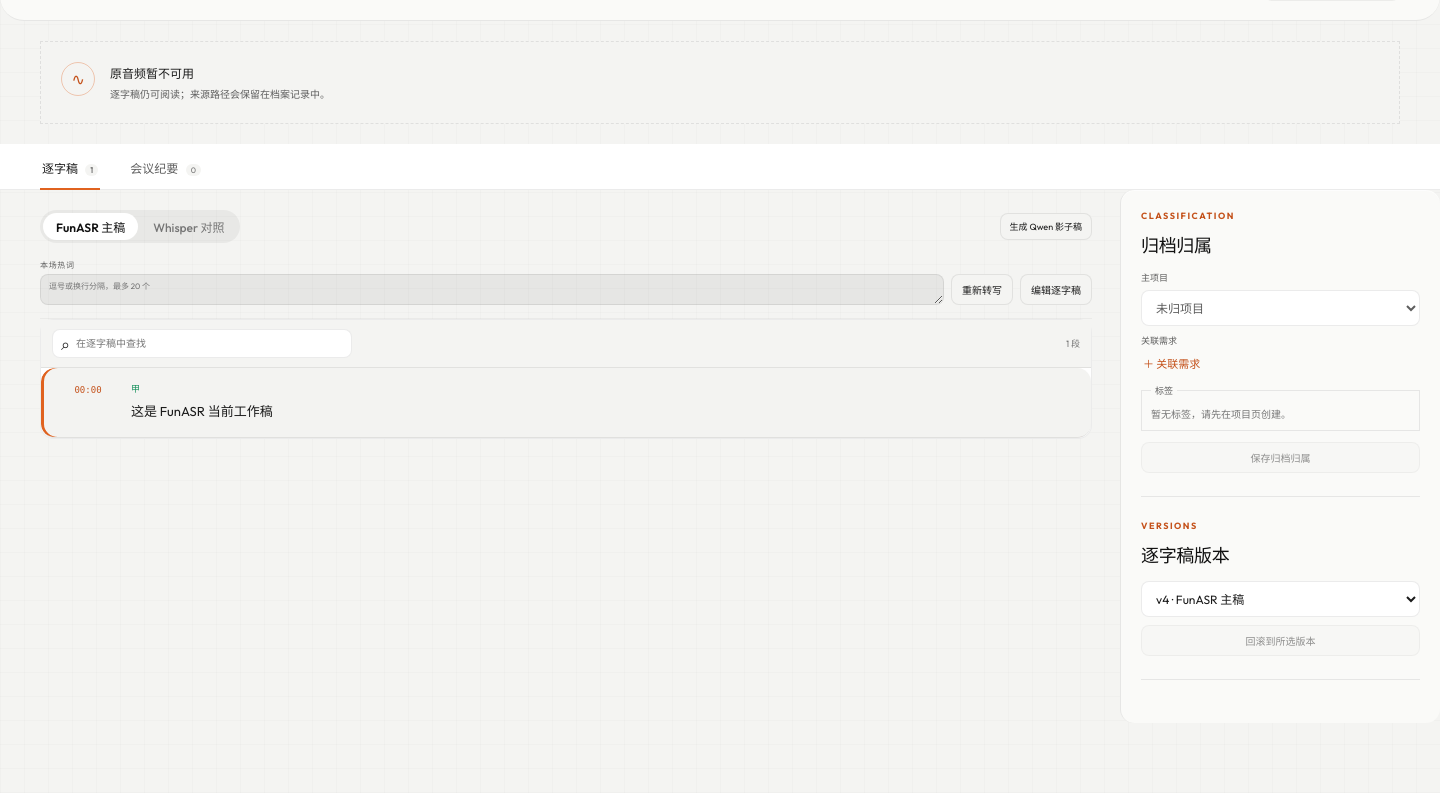
it: MeetingDetailPage Whisper comparison › keeps a failed gold ledger closed and retries it explicitly
The image size is (1440, 793).
(page scrolled)
What coordinates should you click on to do the following:
click the button "Whisper 对照"
I would click on:
 (189, 226)
Its box is 140,213 -> 237,240.
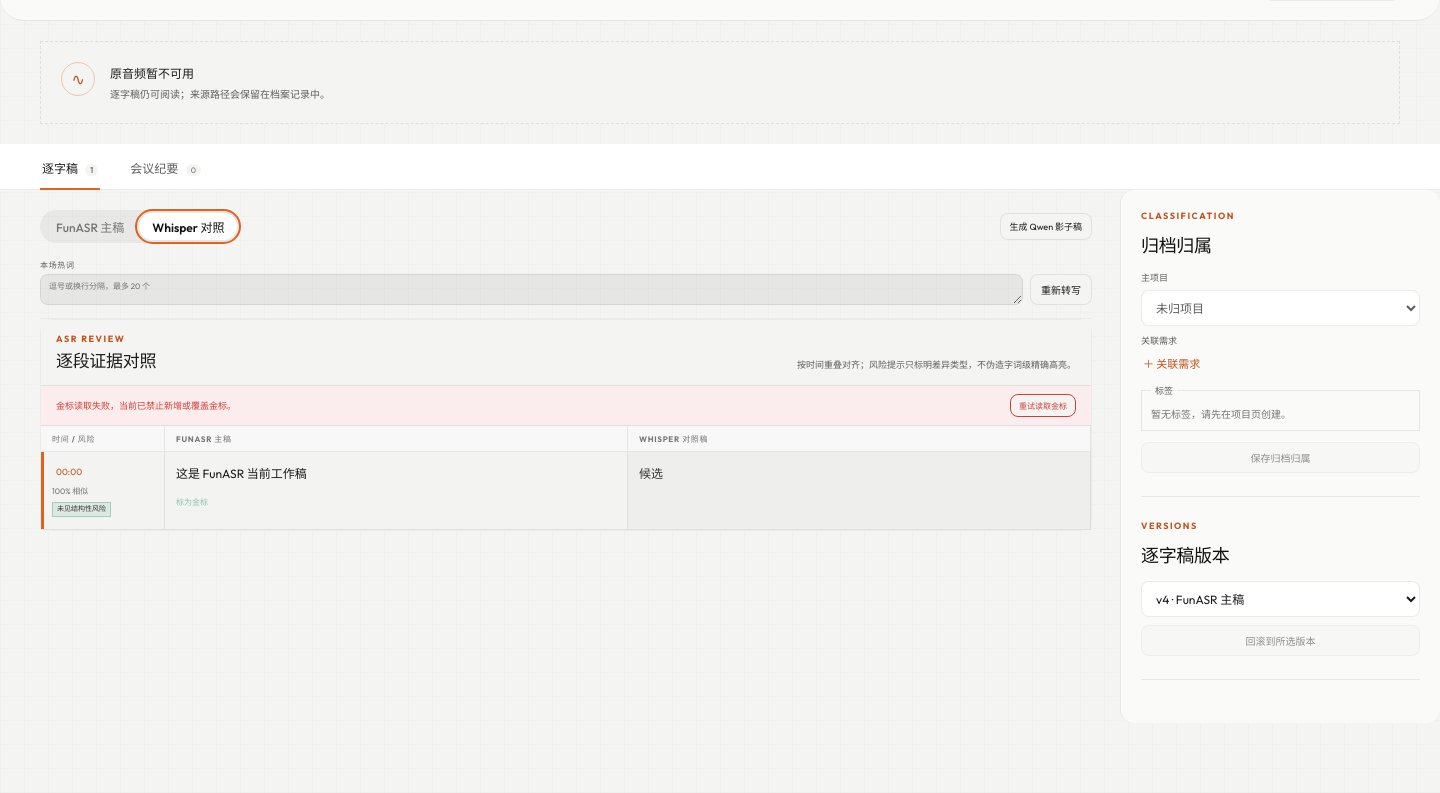
Result: the message "金标读取失败，当前已禁止新增或覆盖金标。 重试读取金标" is shown at 41,386 -> 1091,426
Result: the button "标为金标" is disabled at 176,493 -> 208,511
What coordinates should you click on to do the following:
click the button "重试读取金标"
I would click on:
 (1043, 406)
Its box is 1010,394 -> 1076,417.
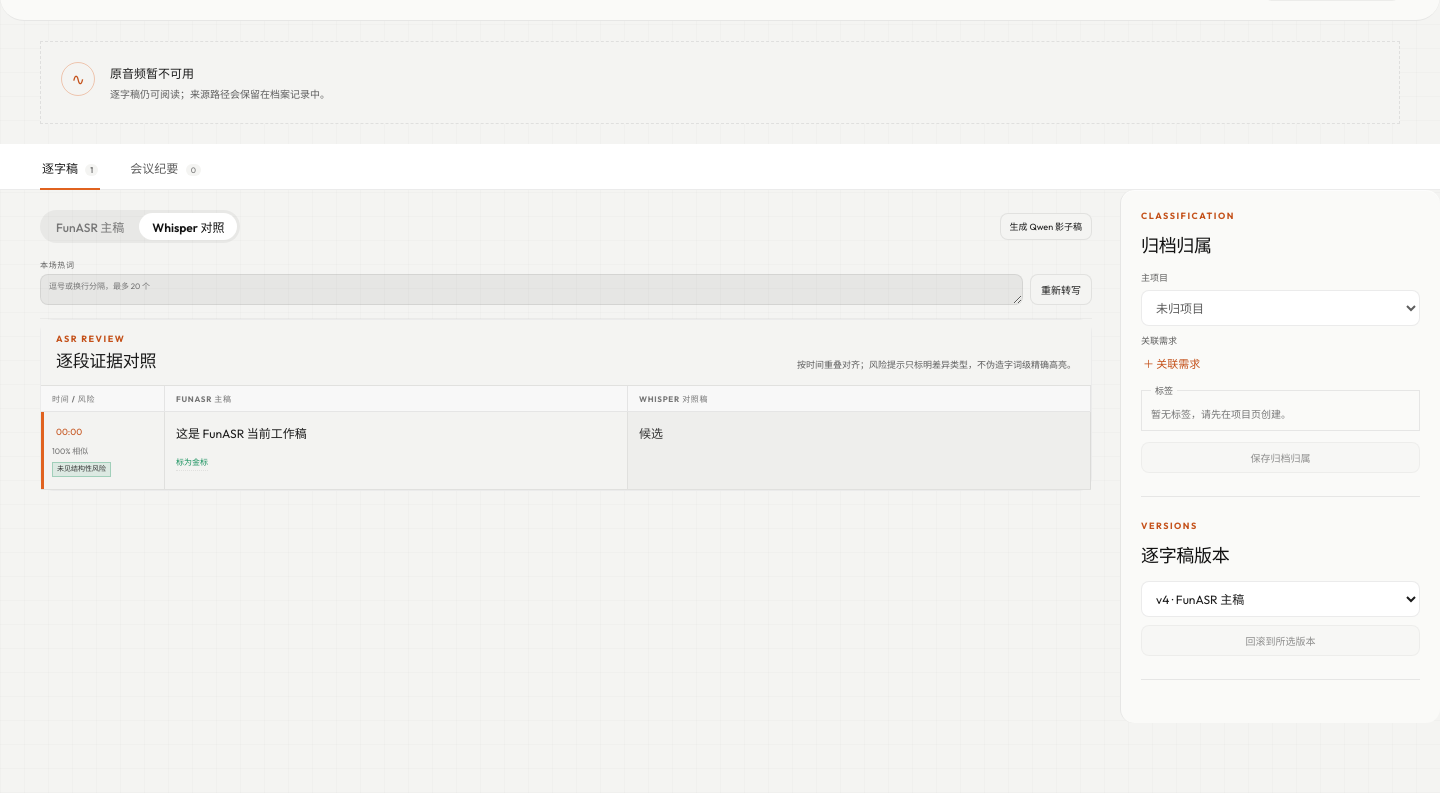
Result: the button "标为金标" is enabled at 176,453 -> 208,471
